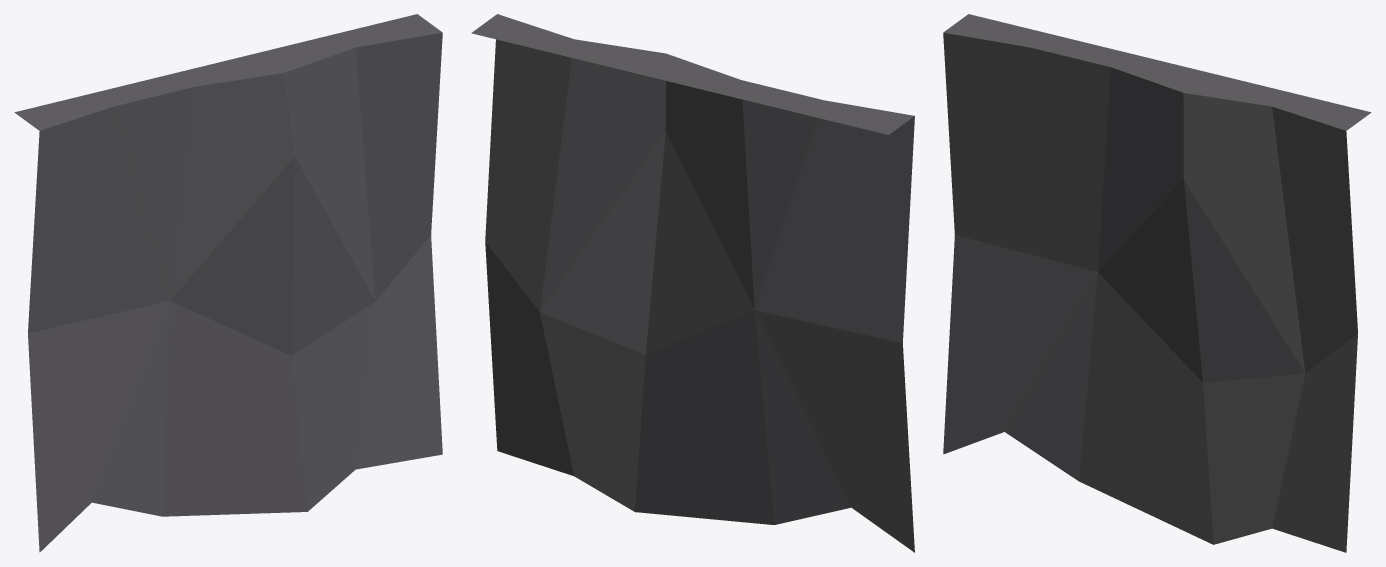
Rendered from mesh_nature_cliff_top_01.fbx.
The picture shows the model from 3 angles, left to right: view 1: azimuth 30°, elevation 25°; view 2: azimuth 150°, elevation 25°; view 3: azimuth 330°, elevation 25°; orthographic projection. The views are drawn at different scales.
Parts seen in each view (by area): view 1: mesh_nature_cliff_top_01; view 2: mesh_nature_cliff_top_01; view 3: mesh_nature_cliff_top_01.
Part boxes in pixels (bbox=[...]): mesh_nature_cliff_top_01: bbox=[14, 14, 442, 552]; mesh_nature_cliff_top_01: bbox=[471, 14, 914, 552]; mesh_nature_cliff_top_01: bbox=[943, 14, 1371, 552].
Bounding box in the file's own units: 200 × 212 × 28.25.
